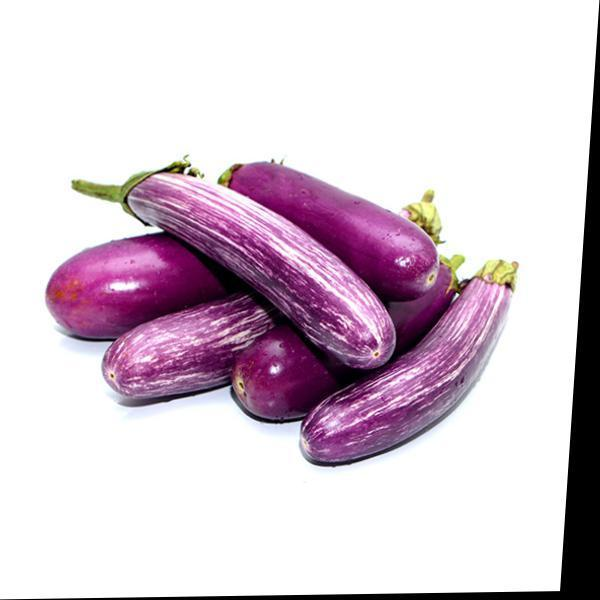eggplant: (32, 109, 530, 486)
